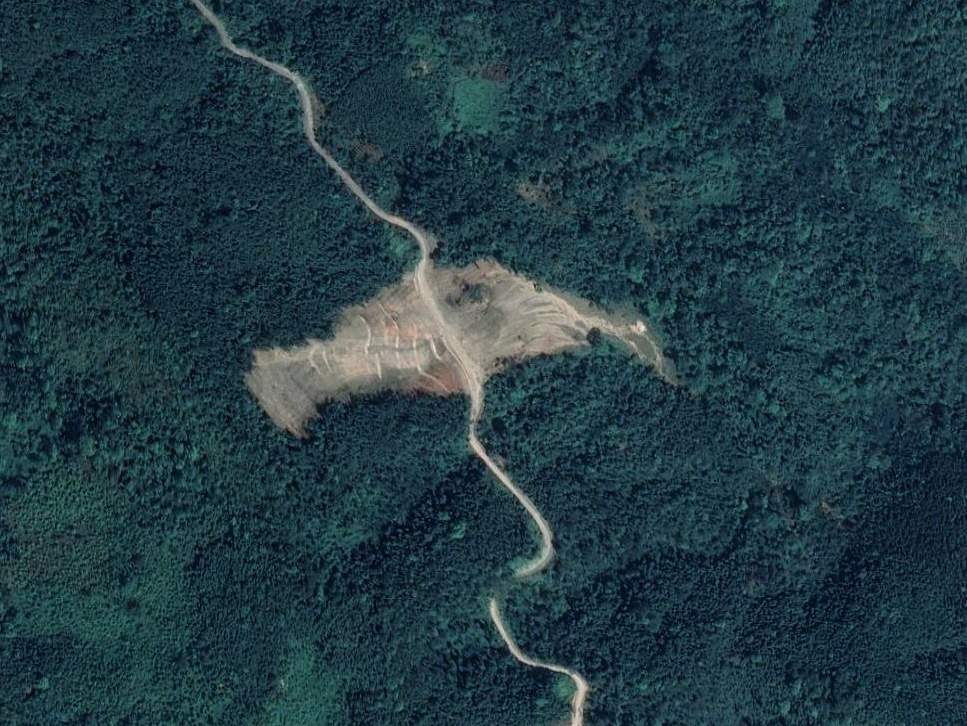slope: (243, 267, 468, 442), (430, 257, 671, 375)
